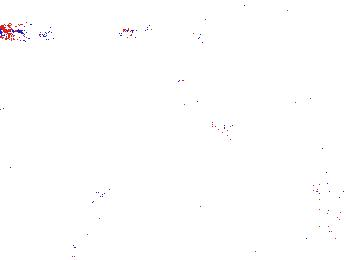X-ray fish: (153, 1, 212, 28)
glassfish: (76, 174, 131, 248), (207, 115, 297, 155)
red belly glassfish: (175, 71, 224, 92), (1, 23, 41, 41), (111, 22, 154, 38), (188, 26, 204, 53)
